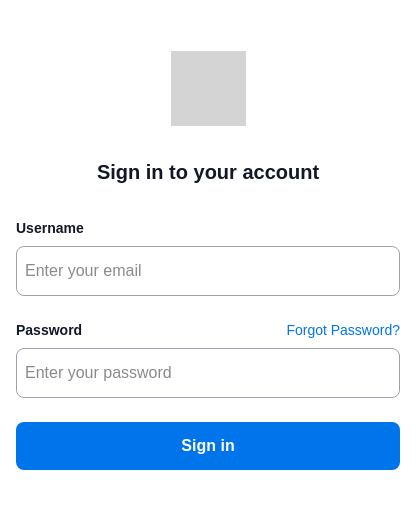
Scenario: Photo Gallery happy path › shows error for invalid credentials
Type "wrong@example.com" into the field named "email" at (208, 271), box [16,246,400,296]
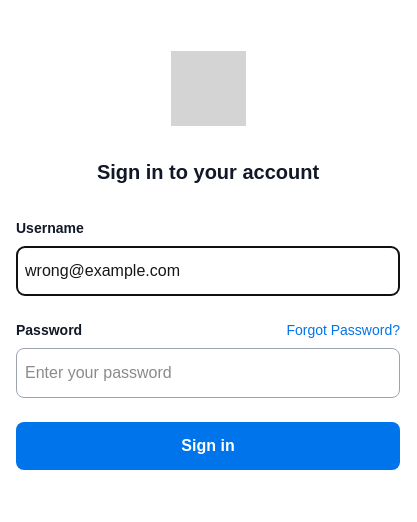
Type "wrongpass" into the password field named "password" at (208, 373), box [16,348,400,398]
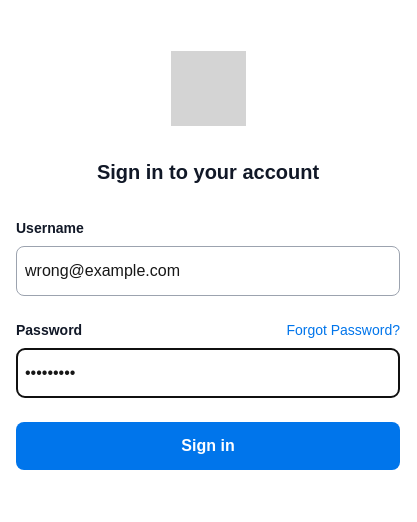
Click the submit button at (208, 446), box [16,422,400,470]
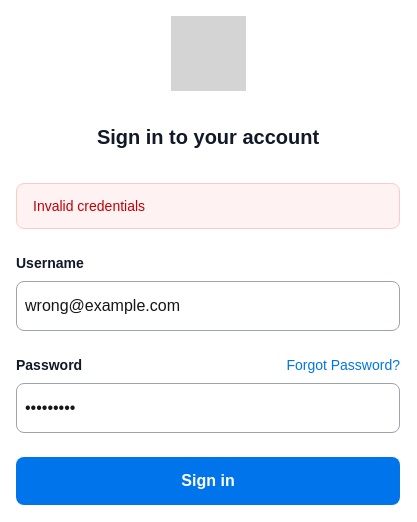
Expected: the text "Invalid credentials" is shown, [16,182,400,228]
